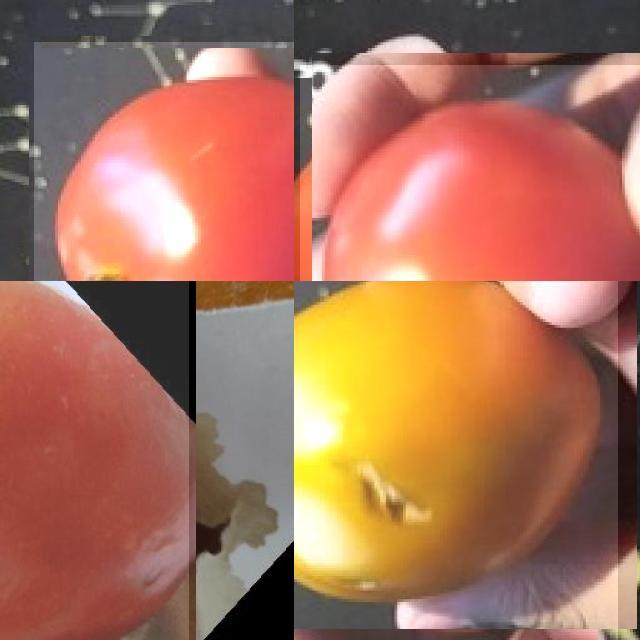Fresh Tomato: (299, 65, 640, 281), (34, 41, 294, 281)
Rotten Tomato: (294, 281, 617, 640), (0, 281, 189, 640)
